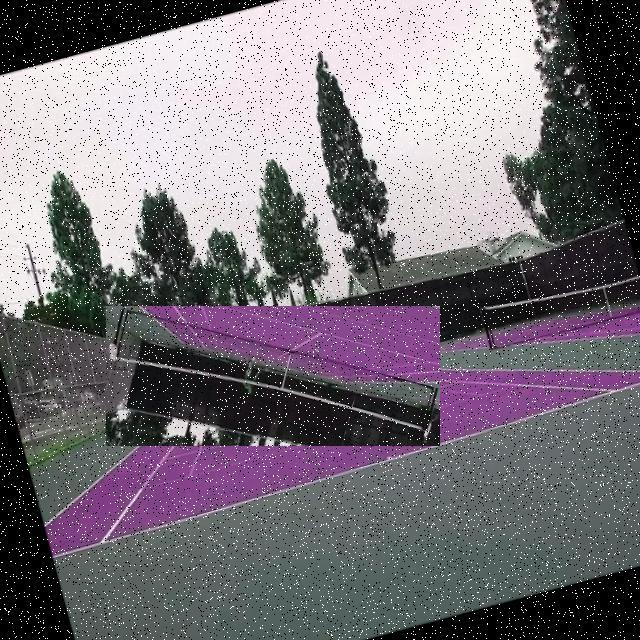court: (23, 284, 640, 556)
net: (106, 306, 440, 446)
